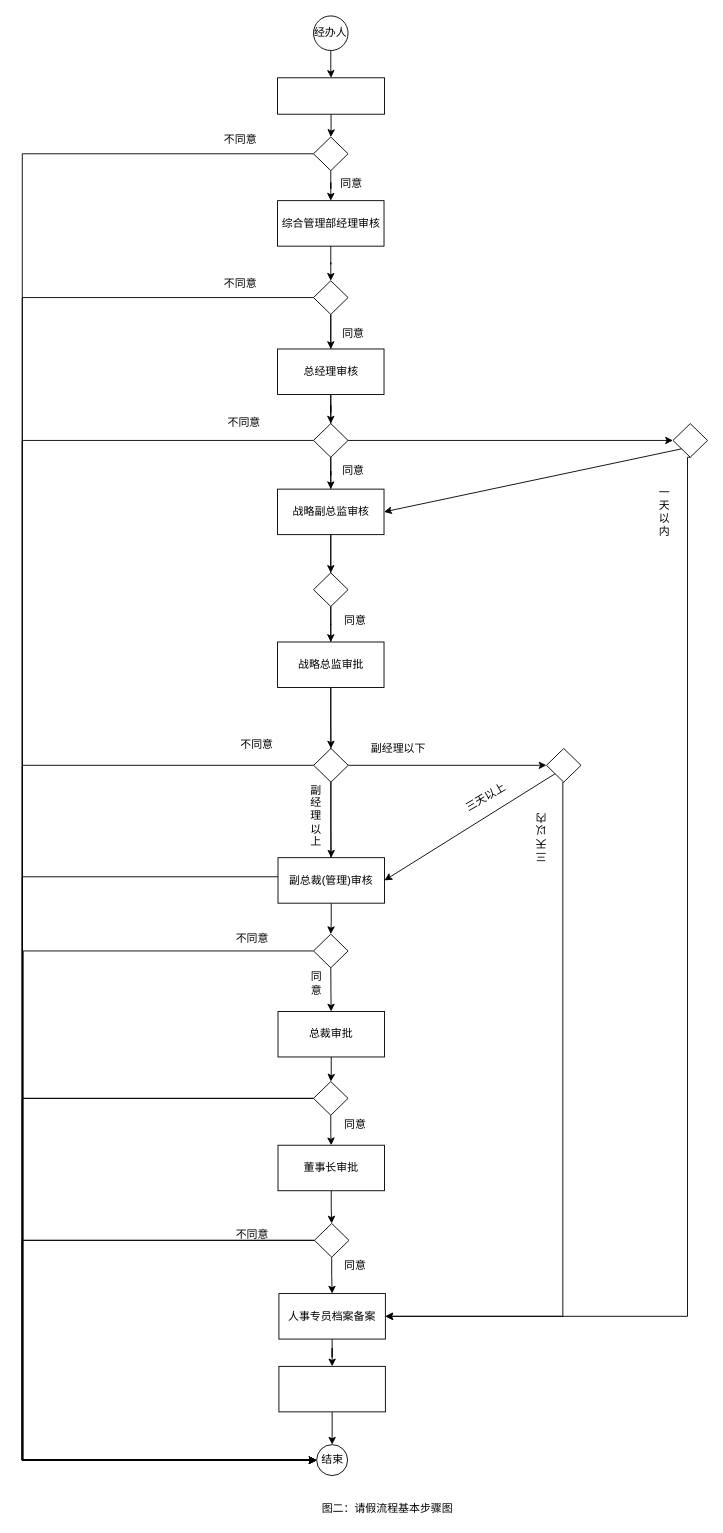
The diagram is 723 pixels wide and 1533 high, and some of its shapes have lost their labels. Each missing label, with the box of its shape:
薪酬福利员档案备案: (278, 1365, 385, 1412)
部门经理审核: (277, 77, 384, 114)
